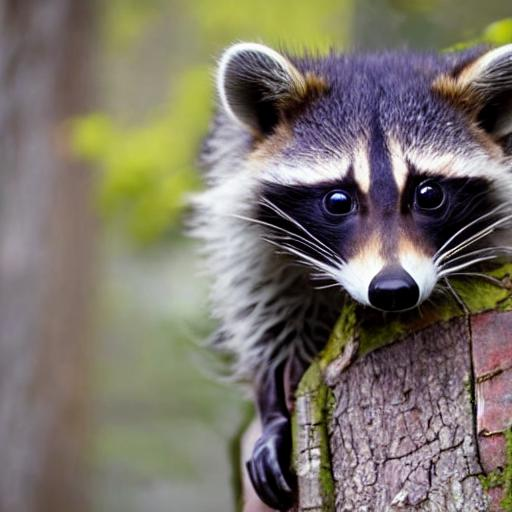raccoon: (174, 32, 512, 357)
